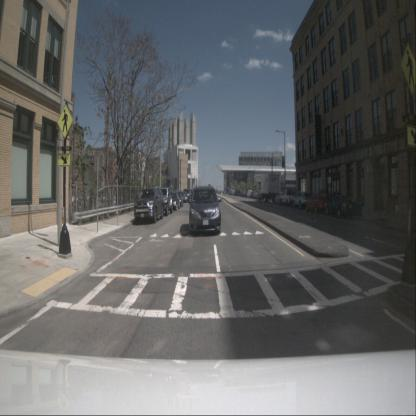vehicle-car: (189, 184, 221, 235), (133, 186, 164, 225), (324, 194, 353, 219), (152, 186, 173, 216), (306, 194, 330, 216), (292, 190, 313, 210), (166, 192, 180, 210), (180, 191, 188, 203)
vehicle-truck: (258, 172, 280, 203), (280, 186, 298, 207)
